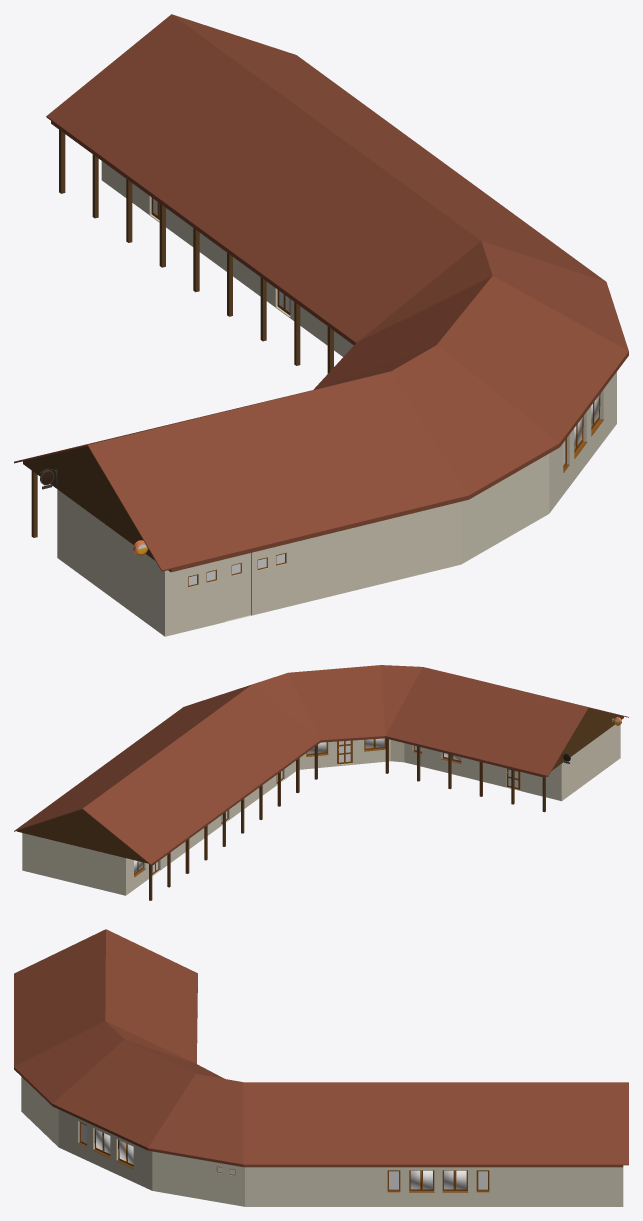
Rendered from zolik.glb.
3 views of the same model, one above another, from view 1: azimuth 30°, elevation 25°; view 2: azimuth 150°, elevation 25°; view 3: azimuth 270°, elevation 25° (orthographic). The views are drawn at different scales.
Parts seen in each view (by area): view 1: Cube, Cube.017; view 2: Cube, Cube.017, Cube.015, window.004, Cube.012; view 3: Cube, window.007, window.006, Cube.004.
Boxes of the visible parts, x1,y1,x2,y2 form: Cube: (14,14,628,636); Cube.017: (59,130,333,373); Cube: (14,665,628,895); Cube.017: (149,745,317,900); Cube.015: (385,738,545,812); window.004: (306,738,385,756); Cube.012: (337,740,352,764); Cube: (14,929,628,1206); window.007: (409,1170,468,1192); window.006: (93,1129,133,1168); Cube.004: (387,1170,489,1192).
Size of what is drawn, in the model's own units: 3.34 by 0.7242 by 4.49.
